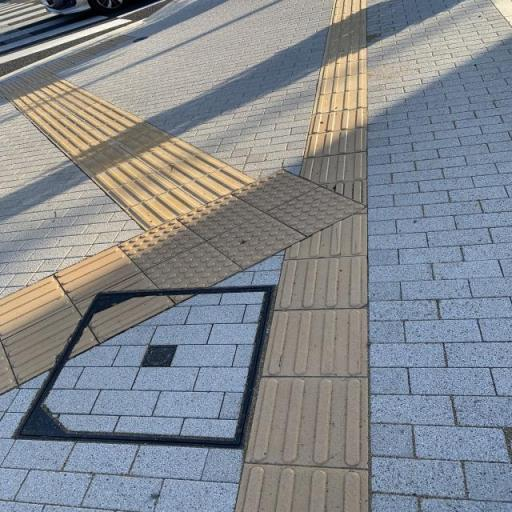dot: (208, 214, 306, 270), (267, 185, 365, 237), (117, 218, 206, 271), (176, 193, 263, 240), (230, 169, 321, 212)
line: (246, 377, 373, 469), (261, 308, 371, 375), (53, 246, 143, 304), (271, 256, 366, 310), (127, 186, 205, 230), (178, 165, 256, 205), (104, 172, 178, 211), (157, 151, 229, 187), (86, 156, 156, 192), (133, 137, 203, 171), (300, 153, 368, 185), (303, 128, 367, 158), (309, 108, 367, 134), (313, 89, 369, 114), (315, 74, 367, 96), (318, 59, 368, 79)
